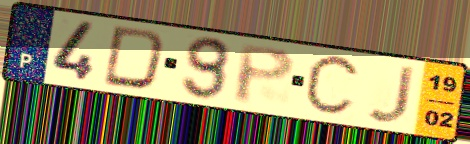4: (48, 18, 101, 85)
9: (178, 35, 232, 103)
C: (301, 53, 364, 120)
D: (99, 23, 169, 92)
J: (364, 64, 418, 126)
P: (233, 42, 299, 107)
